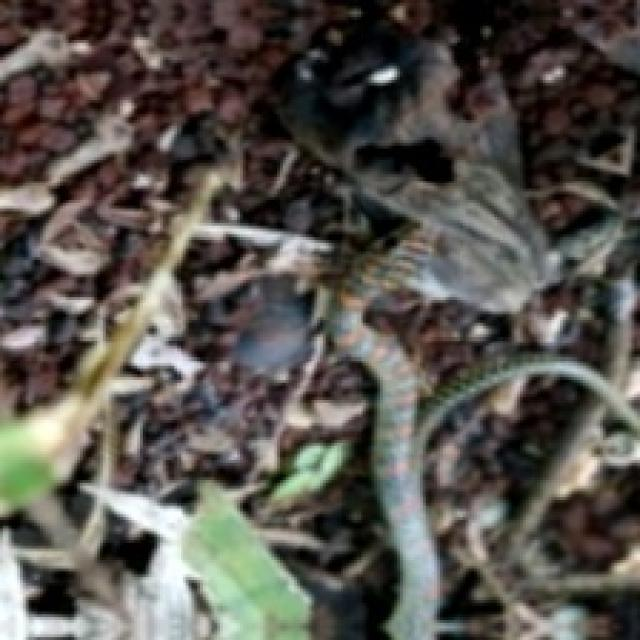paradise tree snake: (254, 0, 637, 637)
